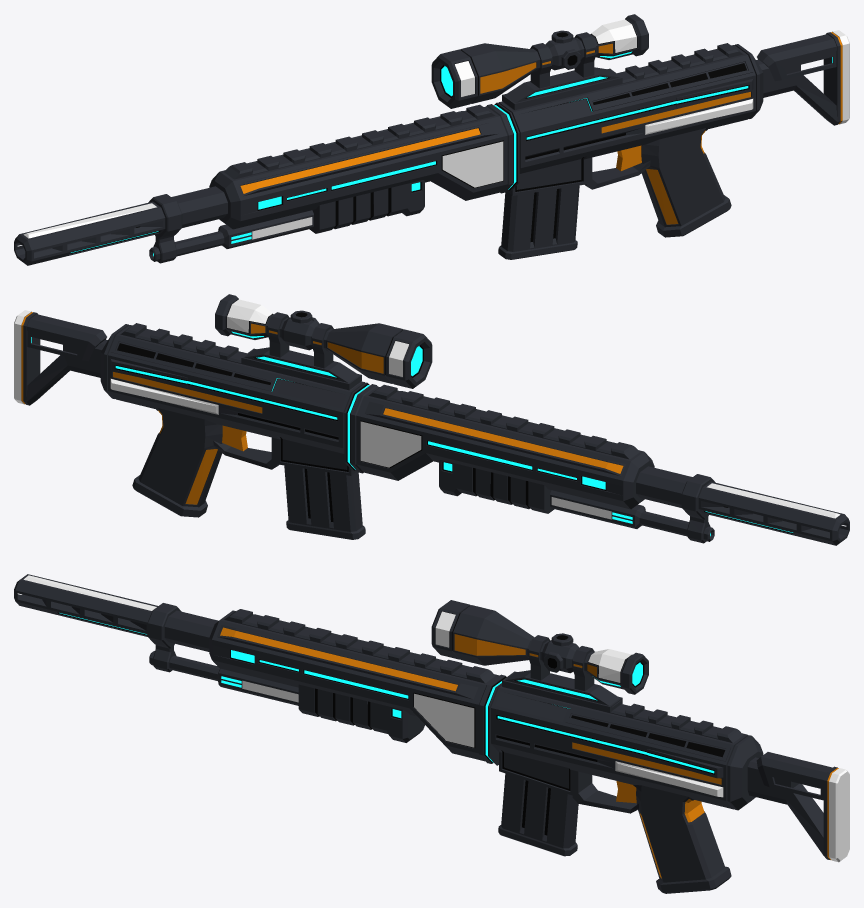
File: SM_Sniper_Rifle.fbx
3 views of the same model, one above another, from view 1: azimuth 30°, elevation 25°; view 2: azimuth 150°, elevation 25°; view 3: azimuth 330°, elevation 25° (orthographic).
Parts seen in each view (by area): view 1: SM_Sniper_Rifle, SM_Sniper_Scope, SM_Sniper_Magazine; view 2: SM_Sniper_Rifle, SM_Sniper_Scope, SM_Sniper_Magazine; view 3: SM_Sniper_Rifle, SM_Sniper_Scope, SM_Sniper_Magazine.
Part boxes in pixels (x1,y1,x2,y2): SM_Sniper_Rifle: [14, 30, 849, 265]; SM_Sniper_Scope: [431, 14, 648, 109]; SM_Sniper_Magazine: [498, 185, 579, 259]; SM_Sniper_Rifle: [14, 310, 849, 545]; SM_Sniper_Scope: [215, 294, 432, 389]; SM_Sniper_Magazine: [284, 465, 365, 539]; SM_Sniper_Rifle: [14, 574, 849, 893]; SM_Sniper_Scope: [431, 600, 648, 712]; SM_Sniper_Magazine: [498, 773, 578, 856].
Bounding box in the file's own units: 142 × 38.02 × 10.4.
